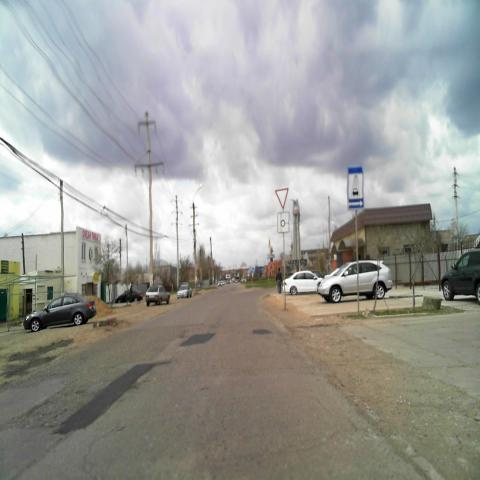8_13_1: (276, 210, 290, 234)
